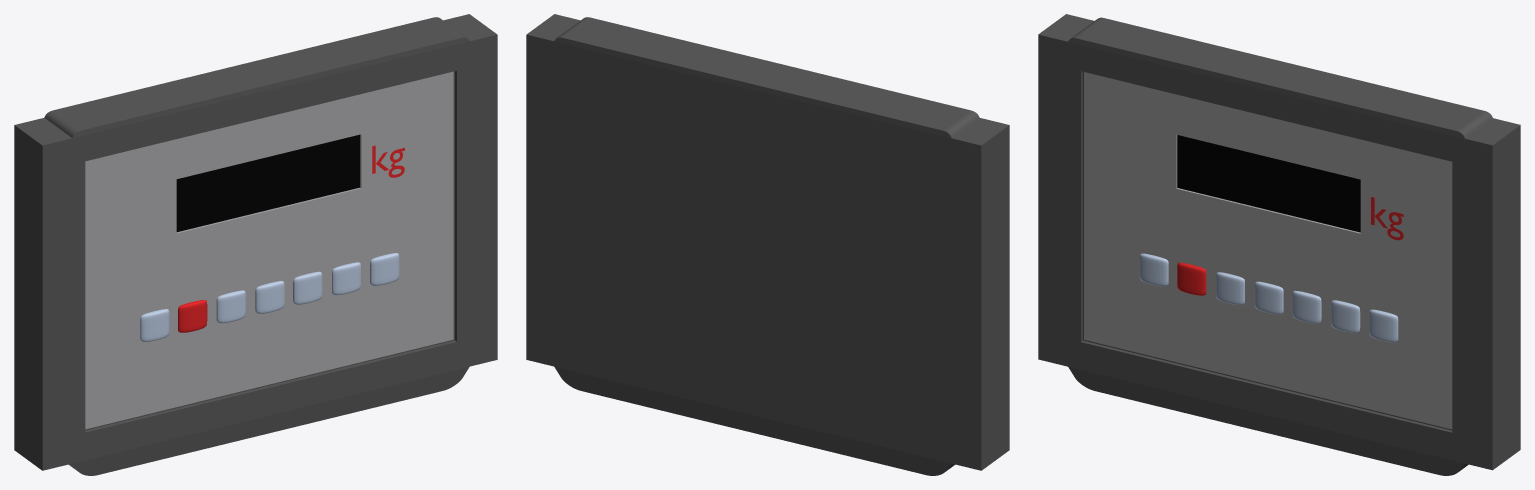
The model's file is balanza.fbx.
The picture shows the model from 3 angles, left to right: view 1: azimuth 30°, elevation 25°; view 2: azimuth 150°, elevation 25°; view 3: azimuth 330°, elevation 25°; orthographic projection.
Visible parts, largest first — view 1: Cube.011; view 2: Cube.011; view 3: Cube.011.
Boxes of the visible parts, x1,y1,x2,y2 form: Cube.011: [14, 14, 497, 475]; Cube.011: [526, 14, 1009, 475]; Cube.011: [1038, 14, 1520, 475].
Bounding box in the file's own units: 69.33 × 50.85 × 7.52.
